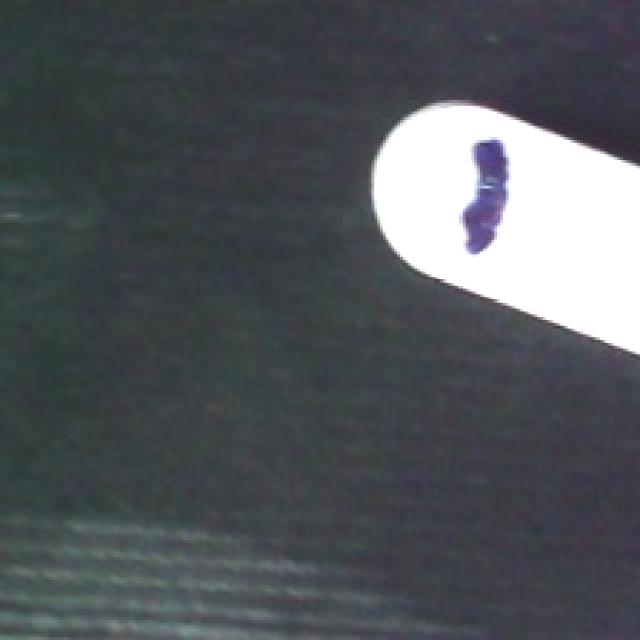defected: (363, 97, 640, 357)
